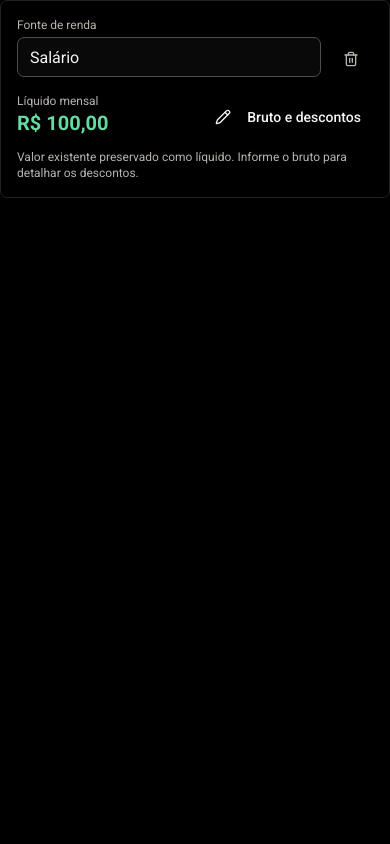
Test: não salva uma composição cujo líquido seria negativo
Click the button "Bruto e descontos" at (288, 117), box [203,97,373,137]
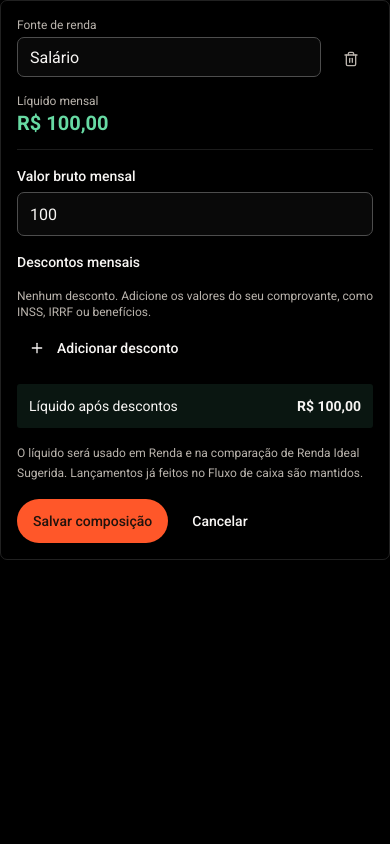
Click the button "Adicionar desconto" at (104, 348), box [17,328,190,368]
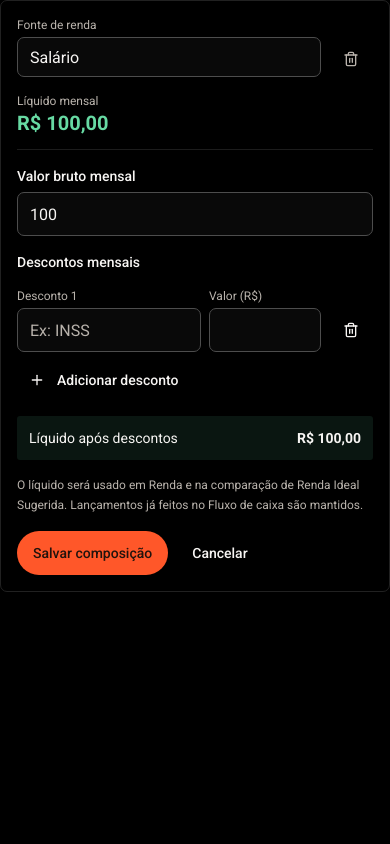
Type "INSS" into the field labelled "Desconto 1" at (109, 330), box [17,308,201,352]
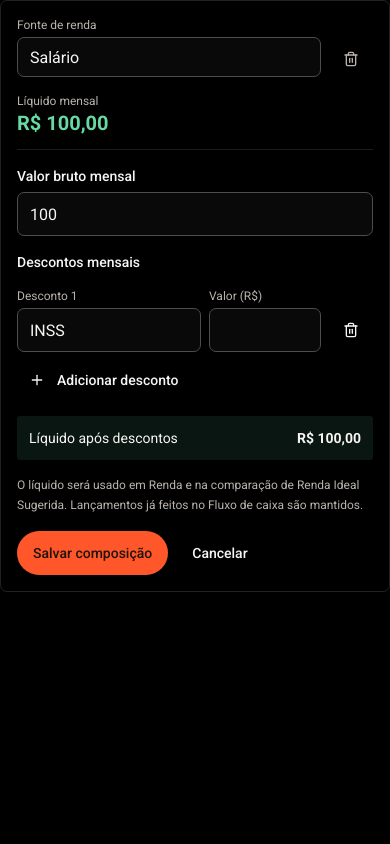
Type "101" into the number field named "Valor do desconto 1" at (265, 330), box [209,308,321,352]
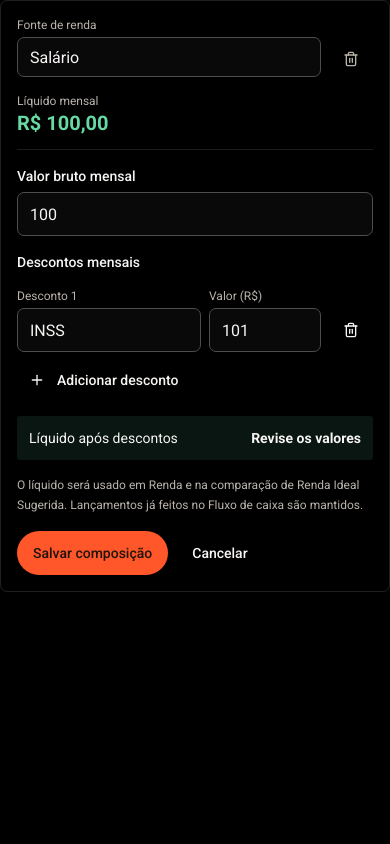
Click the button "Salvar composição" at (93, 553), box [17,531,168,575]
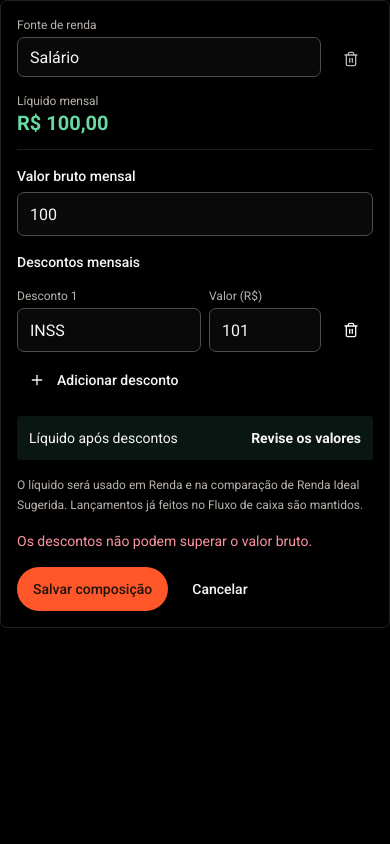
Check: the message shows "Os descontos não podem superar o valor bruto", box [17,533,312,549]
